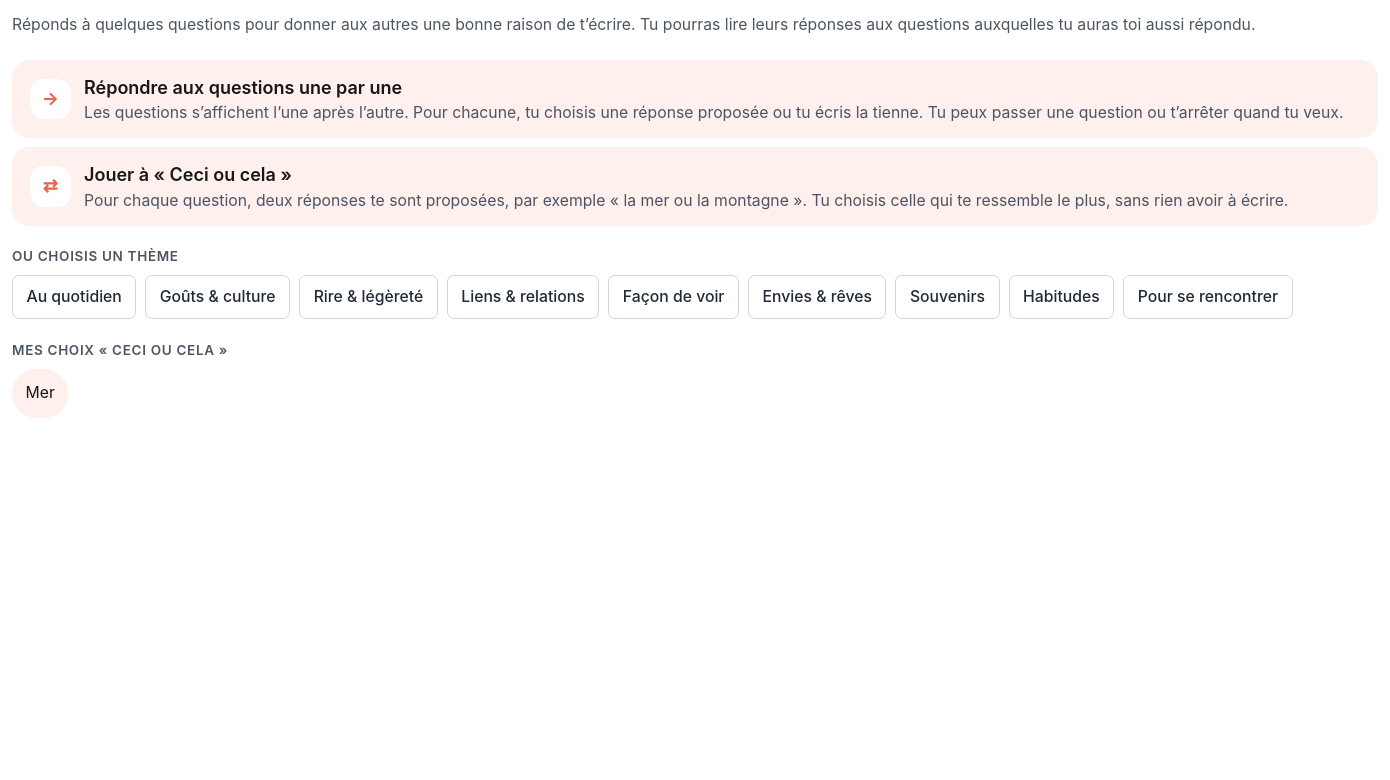
it: mes choix « Ceci ou cela » › se changent pour l’autre option
Click the button with aria-label "Mer ou montagne : Mer". click: (40, 393)
box: [12, 369, 68, 418]
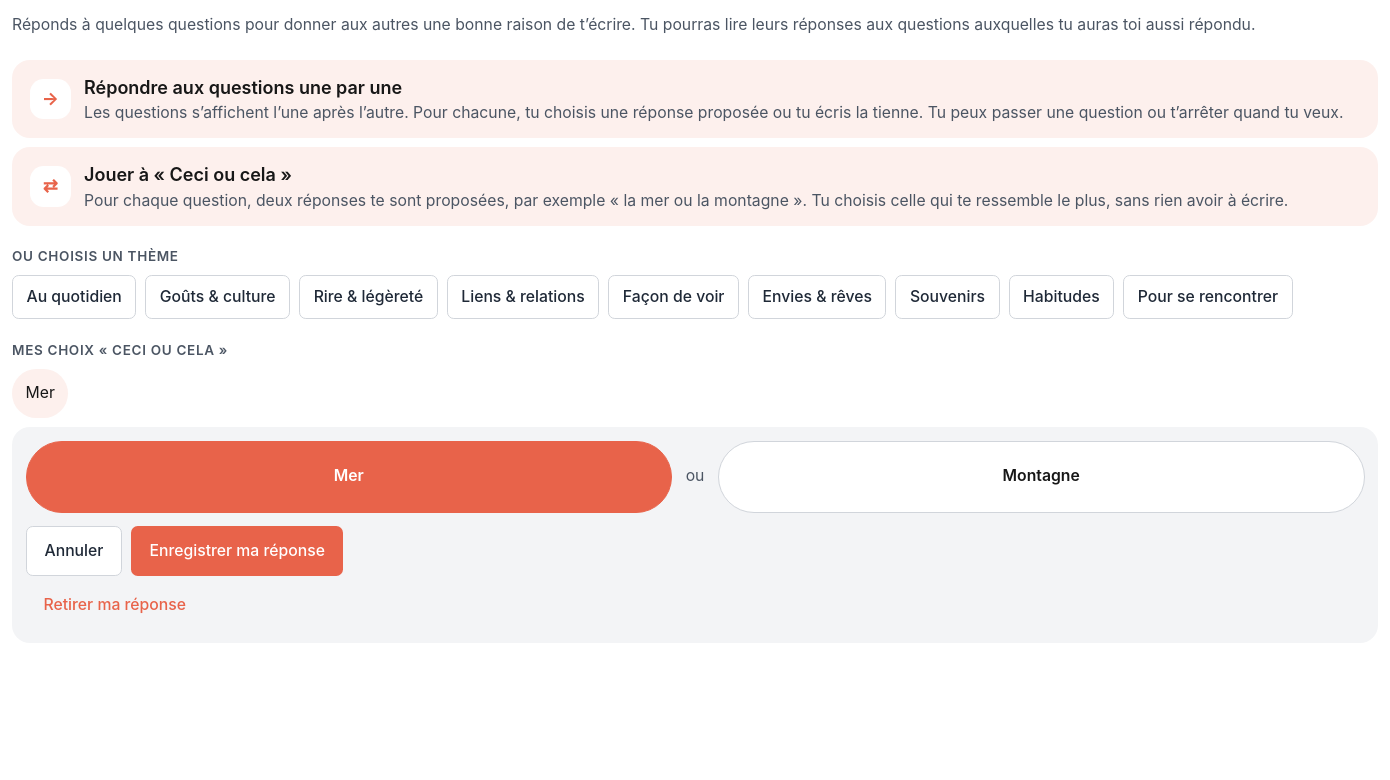
Click the button "Montagne". click: (1041, 477)
box: [718, 441, 1364, 513]
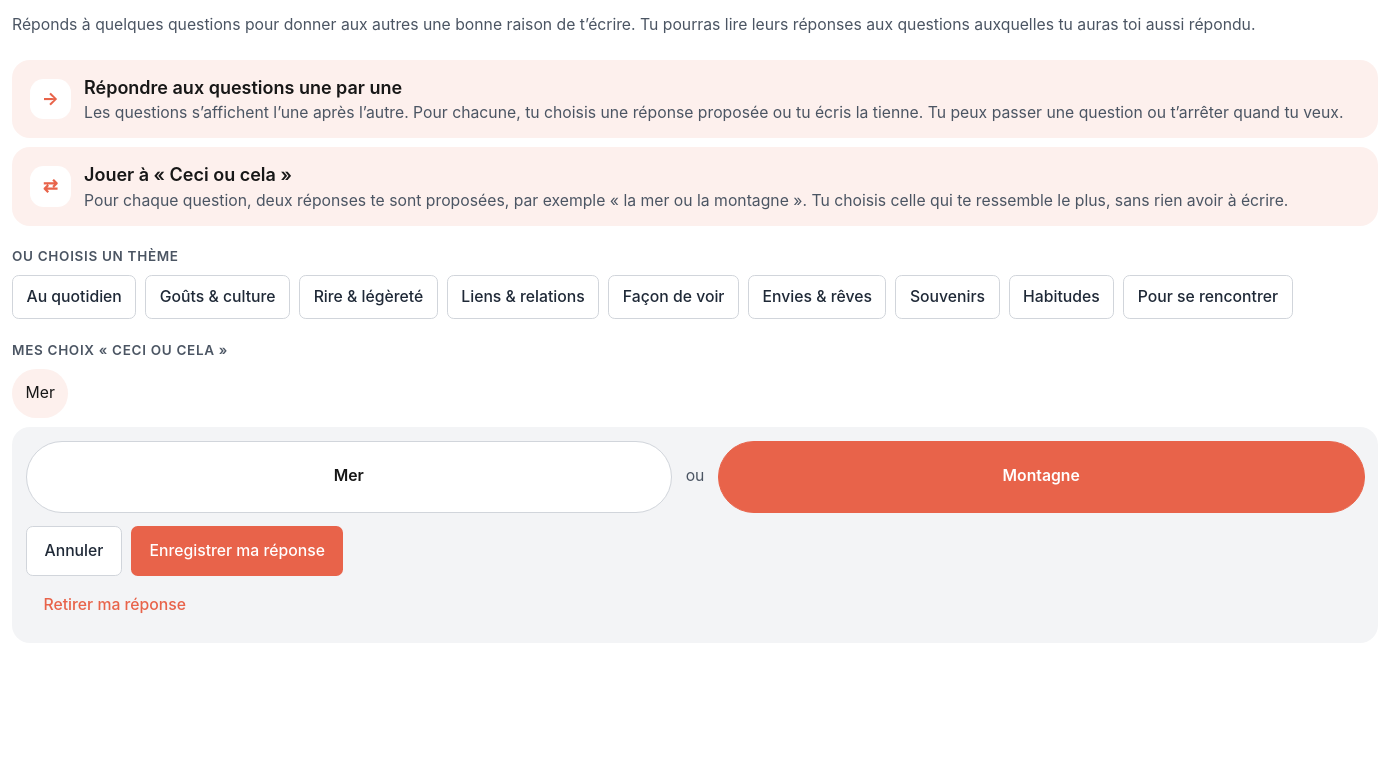
Click the button "Enregistrer ma réponse". click: (237, 551)
box: [131, 526, 343, 576]
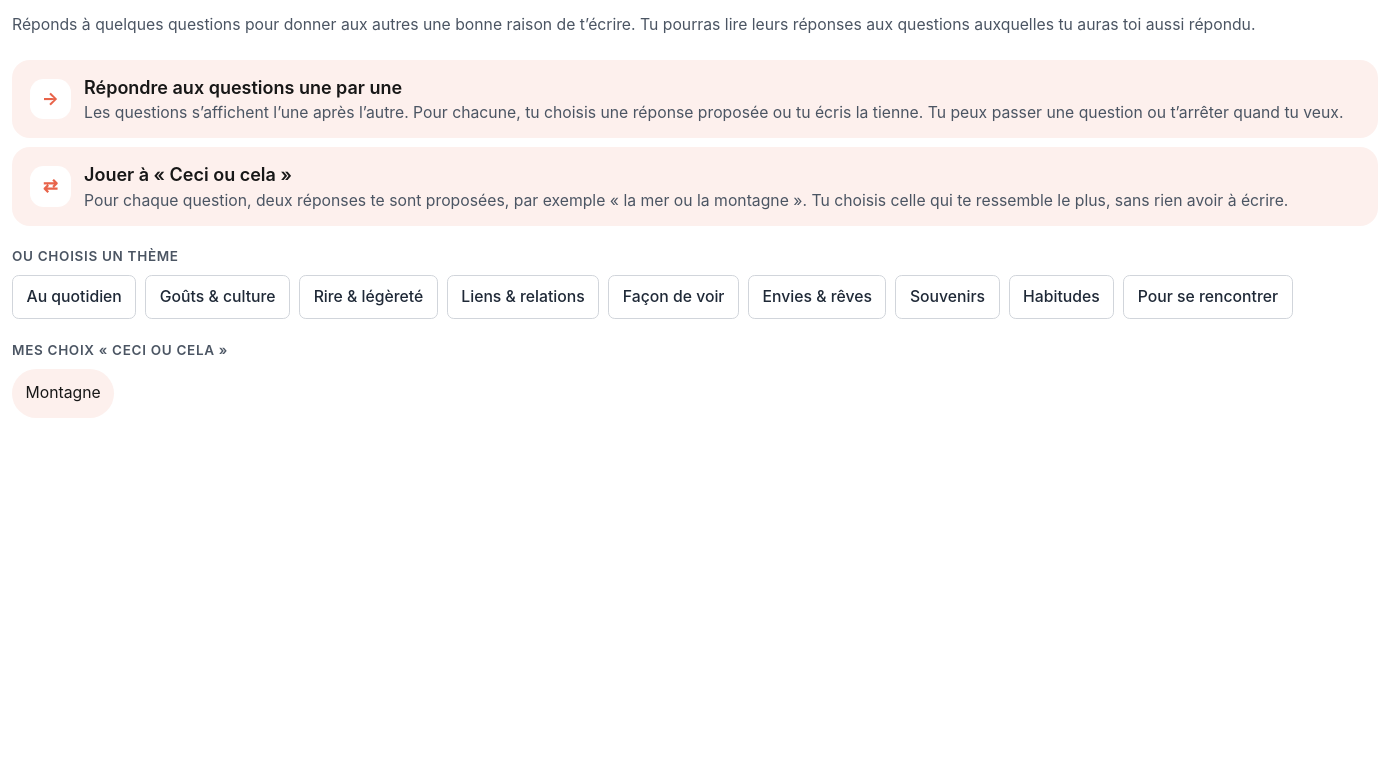
Expected: the button with aria-label "Mer ou montagne : Montagne" is shown, [12, 369, 114, 418]
